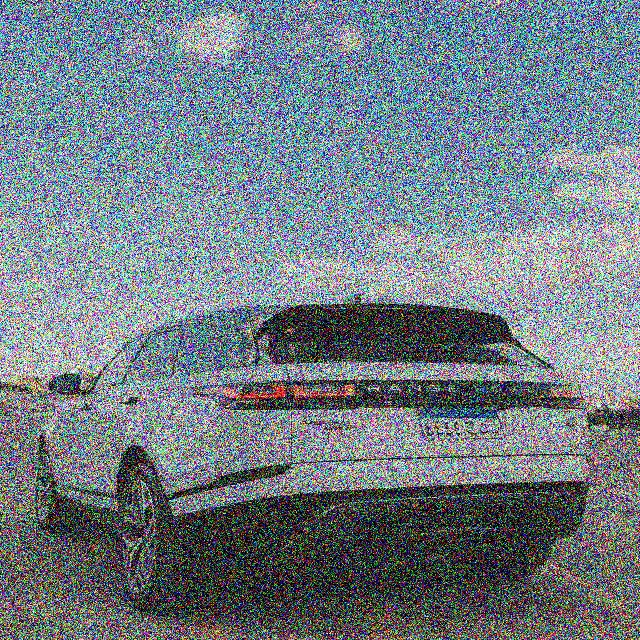License Plate: (415, 405, 508, 441)
